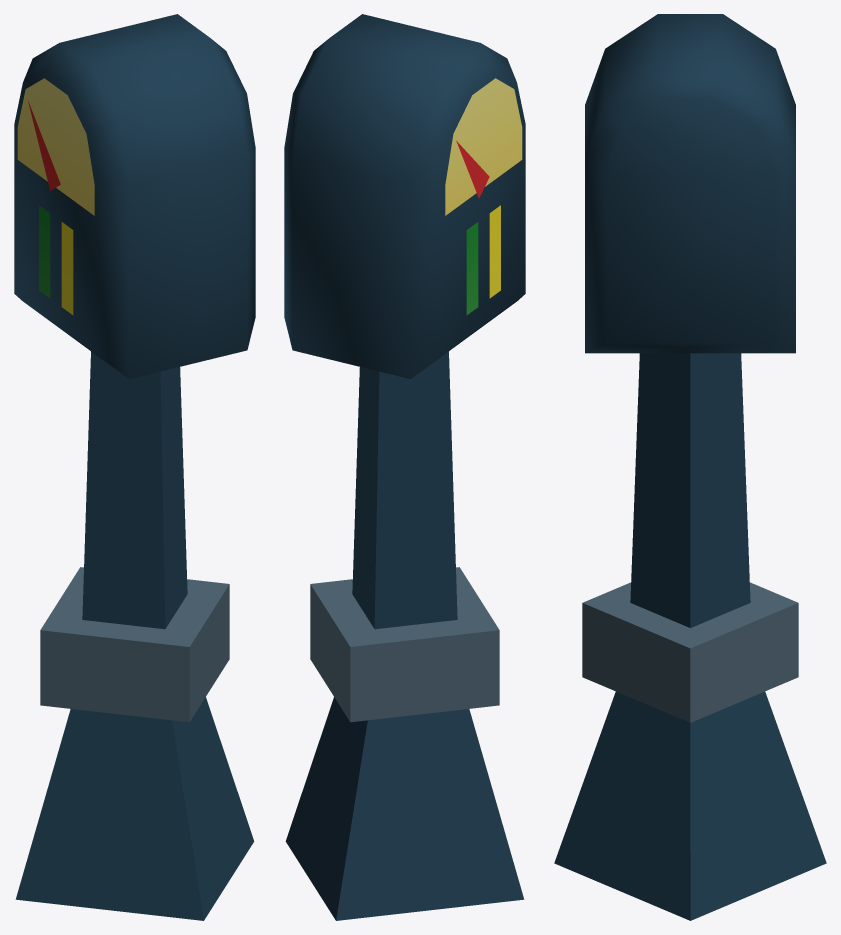
Rendered from Parking_meter.fbx.
3 renders of one model, left to right at view 1: azimuth 30°, elevation 25°; view 2: azimuth 150°, elevation 25°; view 3: azimuth 270°, elevation 25°, orthographic.
Parts seen in each view (by area): view 1: Parking_Meter_1A; view 2: Parking_Meter_1A; view 3: Parking_Meter_1A.
Part boxes in pixels (<box>): Parking_Meter_1A: <box>14,14,255,920</box>; Parking_Meter_1A: <box>284,14,525,920</box>; Parking_Meter_1A: <box>554,14,826,920</box>.
Bounding box in the file's own units: 1362 × 4526 × 1362.
